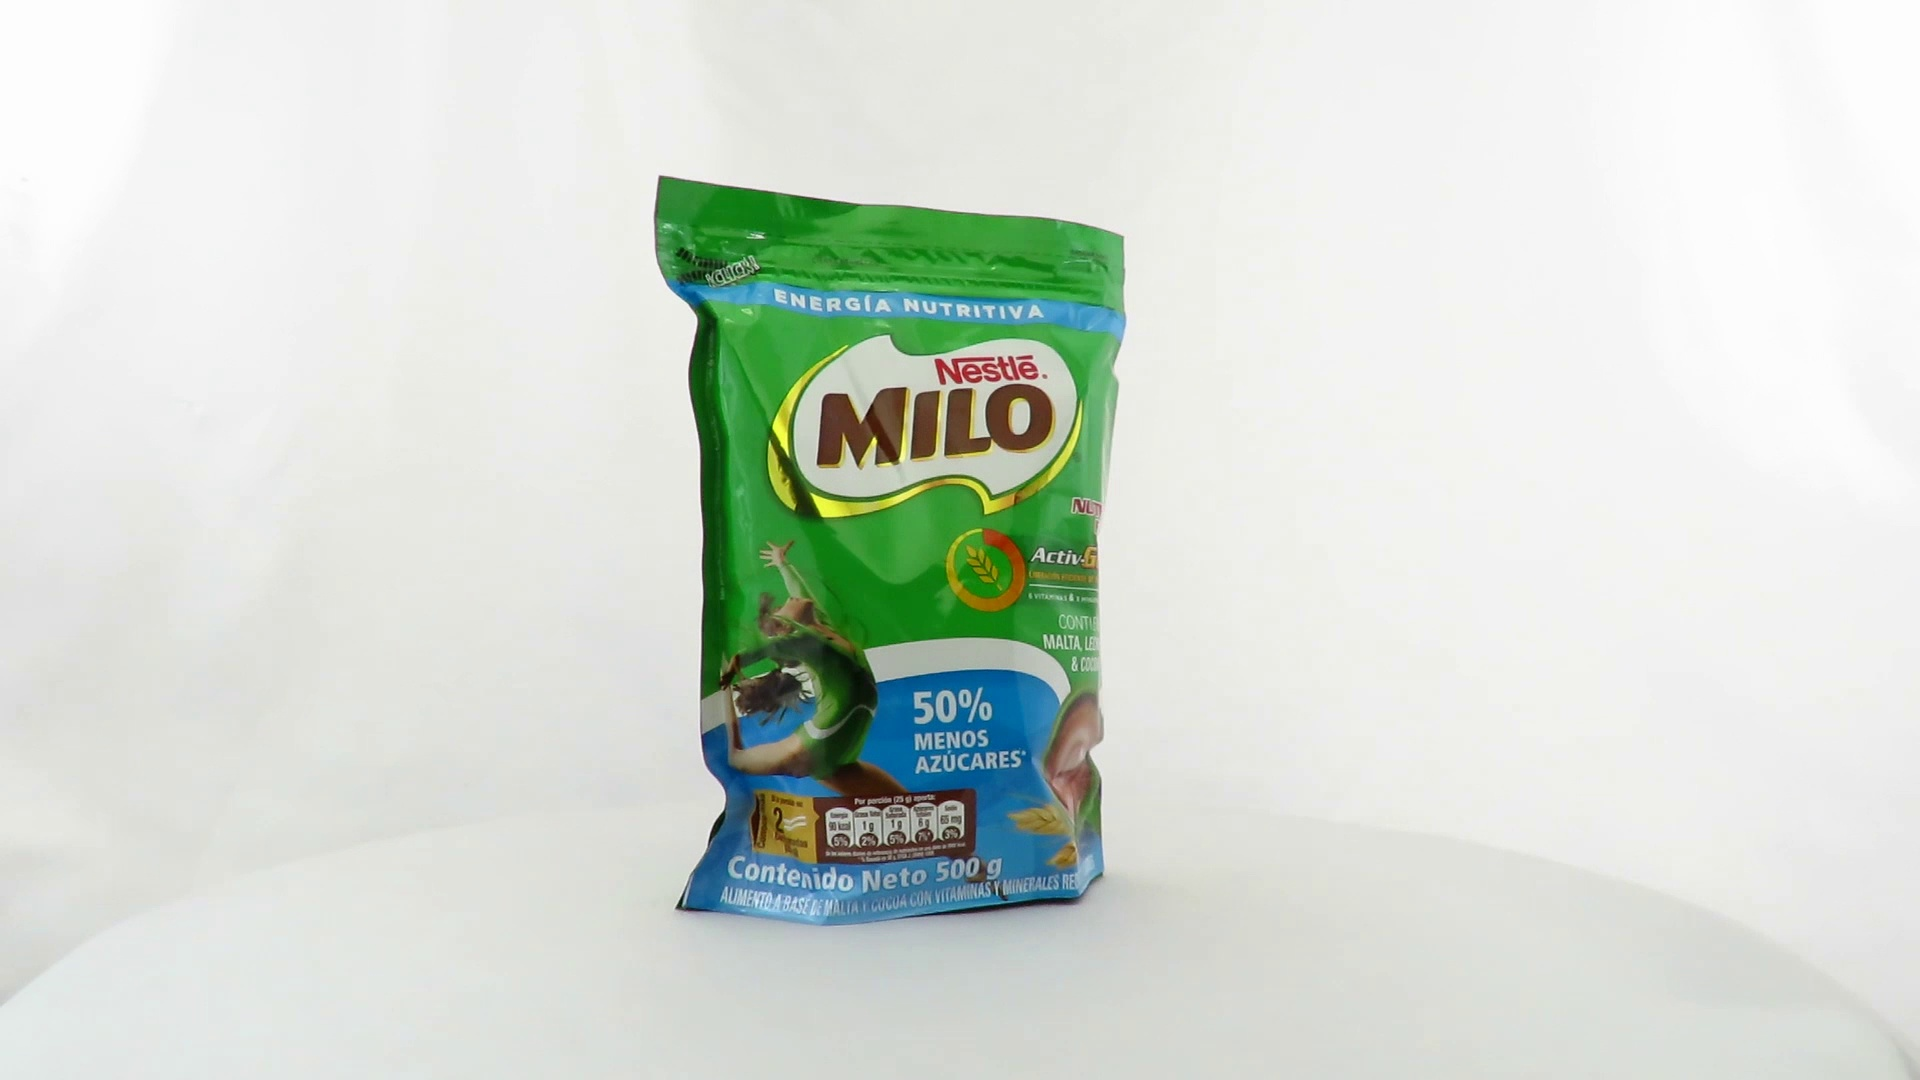COL0170205DYP50000: (647, 170, 1133, 934)
